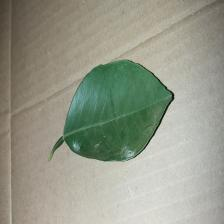healthy: (62, 59, 174, 161)
